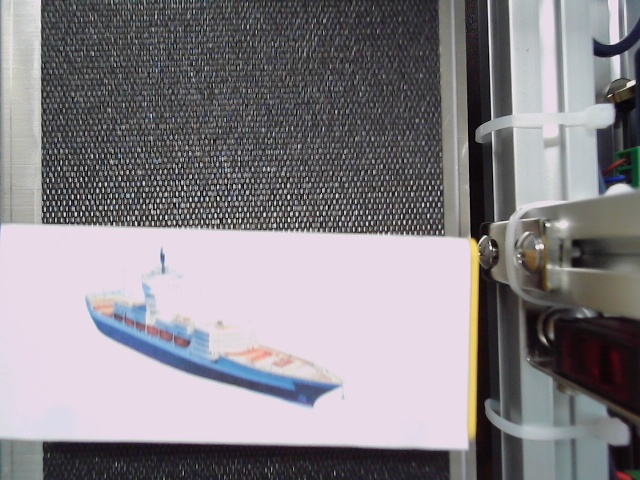ship: (83, 246, 346, 410)
